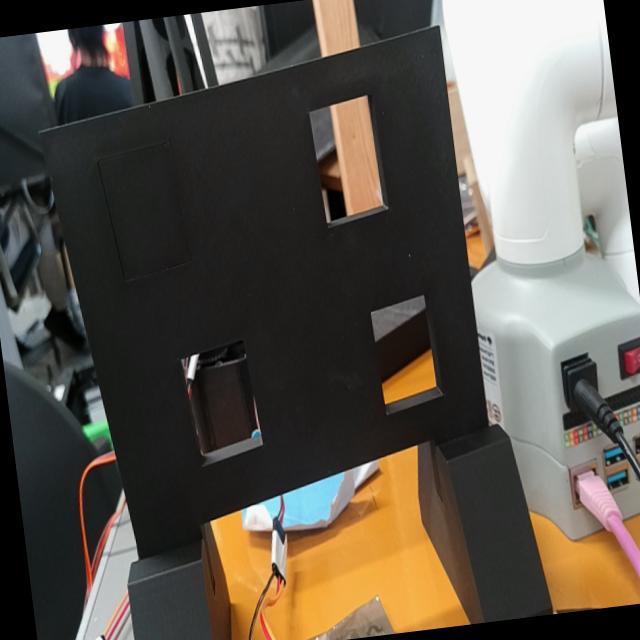Obstacle: (180, 337, 262, 464), (309, 93, 387, 224), (369, 290, 443, 412)
Wall: (39, 23, 489, 546)
